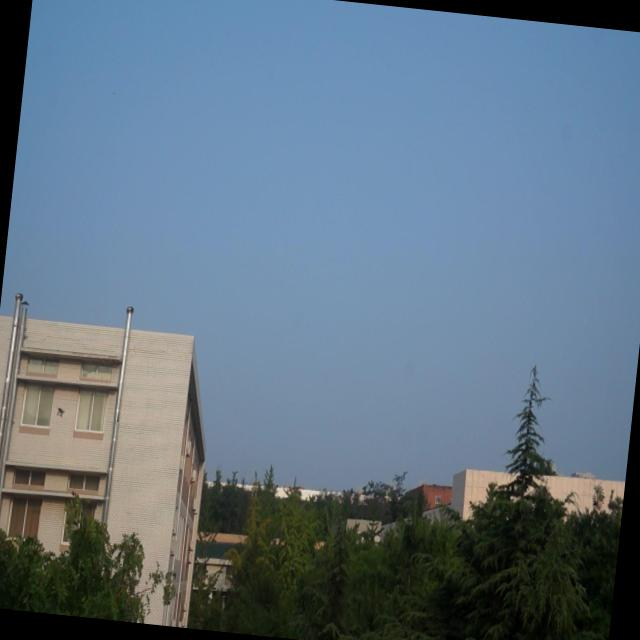drone: (54, 403, 67, 421)
